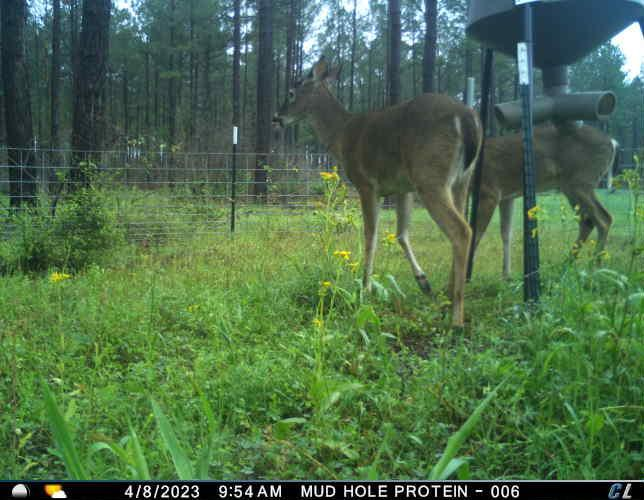Deer: (271, 51, 469, 334), (463, 119, 619, 285)
